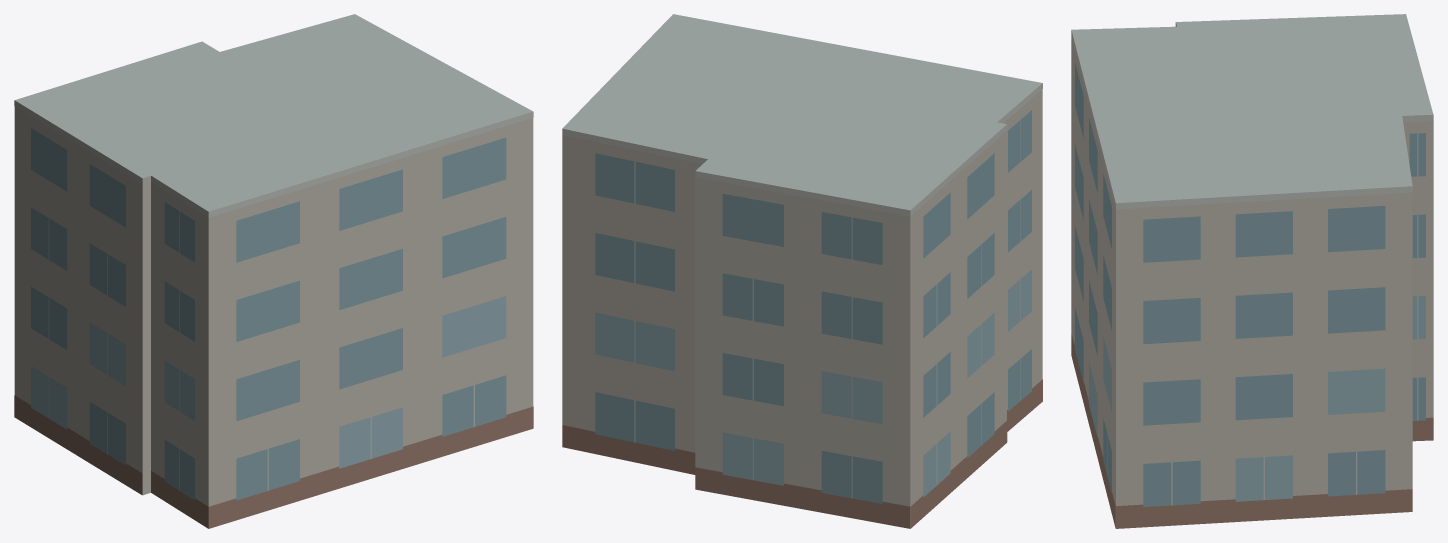
File: survey-upis-32724086.glb
3 views of the same model, side by side, from view 1: azimuth 30°, elevation 25°; view 2: azimuth 150°, elevation 25°; view 3: azimuth 270°, elevation 25° (orthographic). The views are drawn at different scales.
Parts seen in each view (by area): view 1: survey-upis-32724086.tmp; view 2: survey-upis-32724086.tmp; view 3: survey-upis-32724086.tmp.
Boxes of the visible parts, x1,y1,x2,y2 form: survey-upis-32724086.tmp: [14, 14, 533, 528]; survey-upis-32724086.tmp: [562, 14, 1042, 528]; survey-upis-32724086.tmp: [1071, 14, 1433, 528].
Size of the model in its own units: 15.96 by 12.8 by 12.91.
